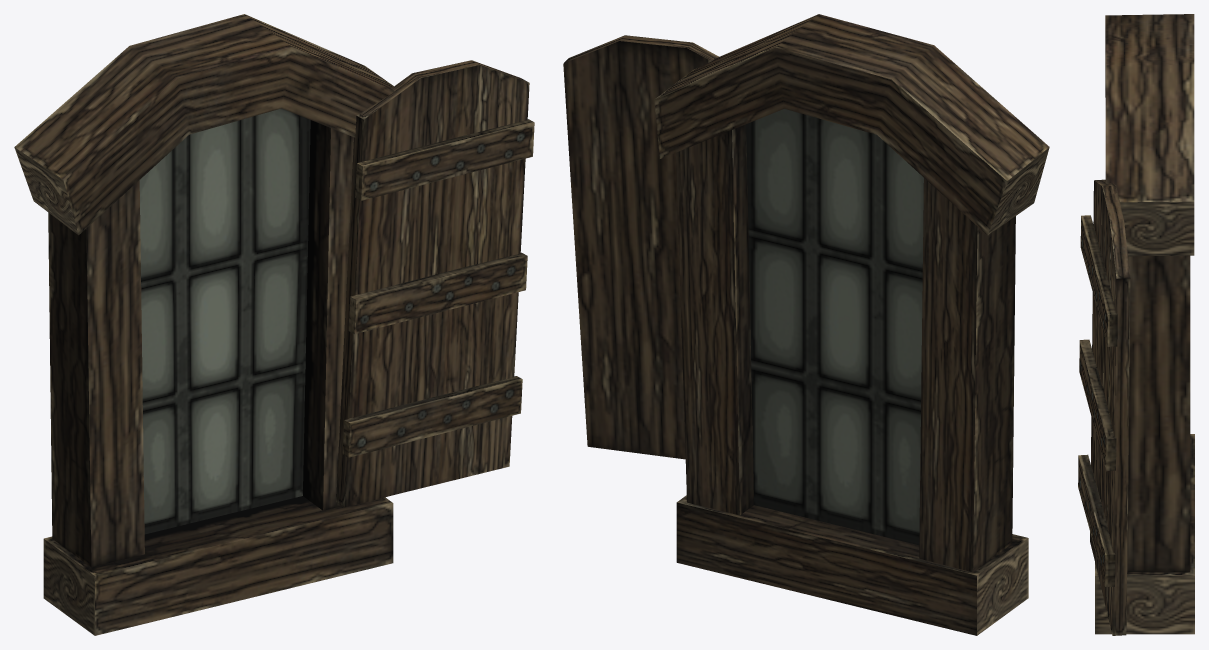
File: Window_06.fbx
3 renders of one model, left to right at view 1: azimuth 30°, elevation 25°; view 2: azimuth 150°, elevation 25°; view 3: azimuth 270°, elevation 25°, orthographic. The views are drawn at different scales.
Parts seen in each view (by area): view 1: Window_06; view 2: Window_06; view 3: Window_06.
Boxes of the visible parts, x1,y1,x2,y2 form: Window_06: [14, 14, 534, 635]; Window_06: [563, 14, 1049, 635]; Window_06: [1078, 14, 1194, 635].
Bounding box in the file's own units: 2.06 × 2.22 × 0.4489.
